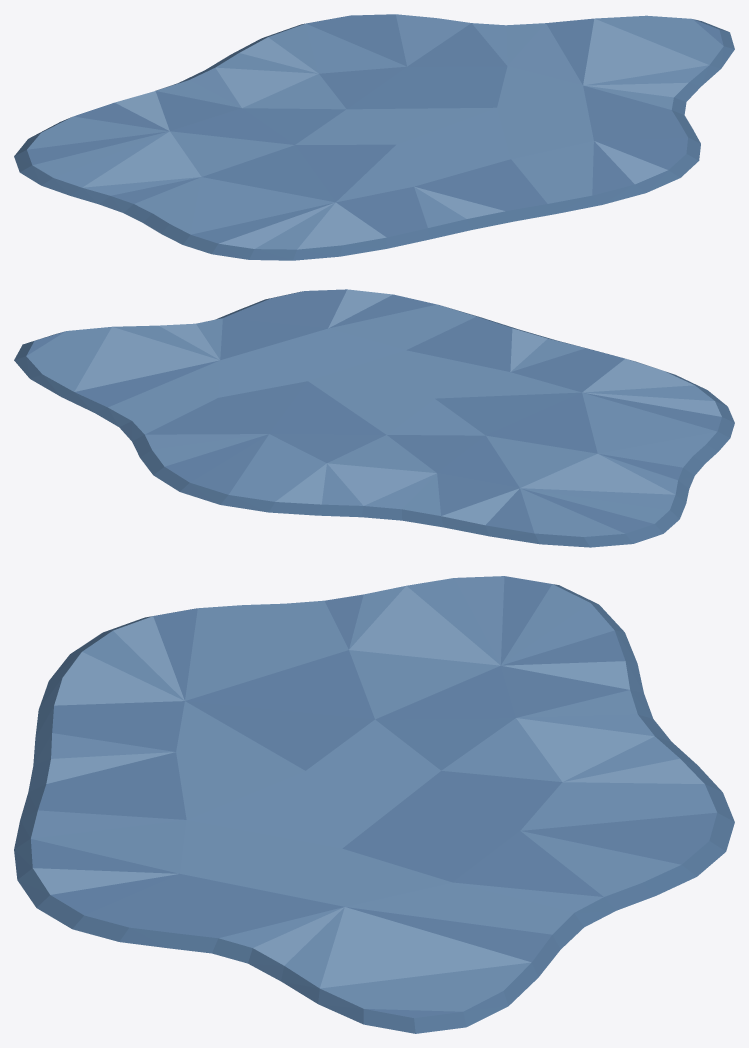
The model's file is FMS_Water_Puddle_Irregular.fbx.
The picture shows the model from 3 angles, top to bottom: view 1: azimuth 30°, elevation 25°; view 2: azimuth 150°, elevation 25°; view 3: azimuth 270°, elevation 25°; orthographic projection. The views are drawn at different scales.
Parts seen in each view (by area): view 1: FMS_Water_Puddle_Irregular; view 2: FMS_Water_Puddle_Irregular; view 3: FMS_Water_Puddle_Irregular.
Boxes of the visible parts, <box> form: FMS_Water_Puddle_Irregular: <box>14,14,734,260</box>; FMS_Water_Puddle_Irregular: <box>14,289,734,547</box>; FMS_Water_Puddle_Irregular: <box>14,576,734,1033</box>.
Size of the model in its own units: 1.8 by 0.0198 by 1.2.
